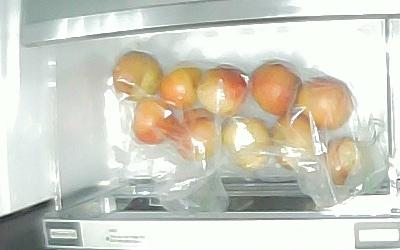prune_vinyl: (270, 115, 325, 174), (298, 77, 354, 129), (222, 114, 272, 171), (197, 64, 247, 116), (251, 63, 301, 115), (173, 110, 222, 161), (114, 50, 162, 100), (132, 98, 174, 144), (327, 138, 361, 185), (160, 67, 197, 109)
